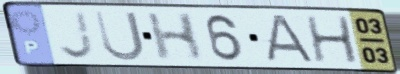6: (203, 12, 246, 63)
A: (261, 13, 318, 65)
H: (144, 11, 206, 63), (303, 14, 362, 66)
J: (56, 9, 98, 61)
U: (91, 9, 148, 63)
